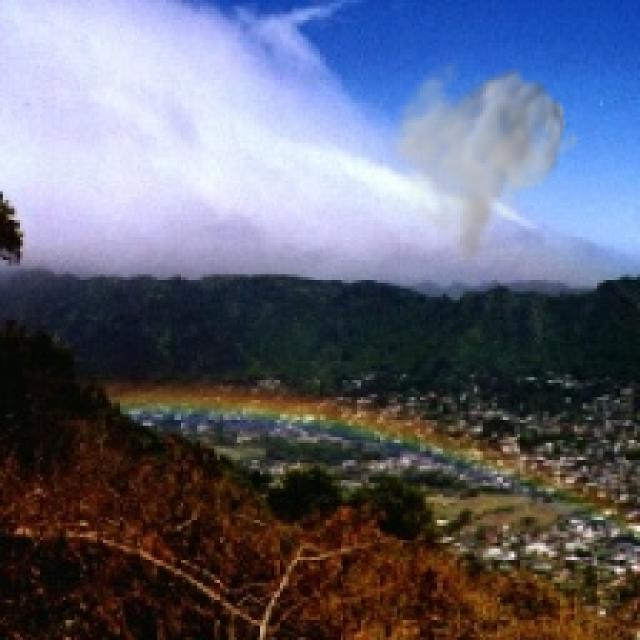smoke: (383, 48, 583, 272)
